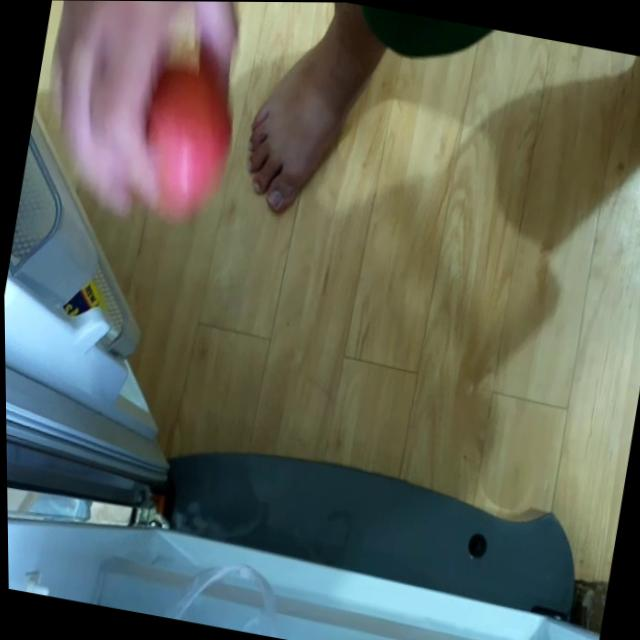apple: (129, 57, 240, 216)
